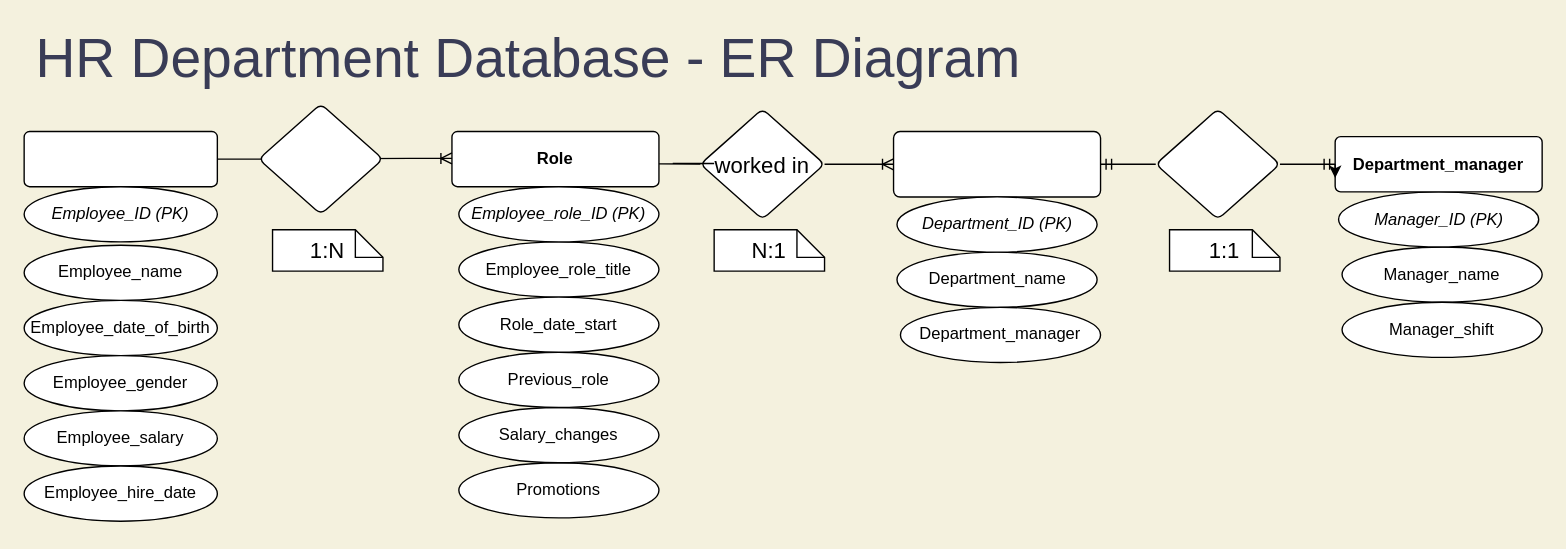
Image size: 1566x549. Some labels were removed from this diagram. The shapes that lost their labels are listed below. From the top down, each one's centre as x and y in pixels, then its label:
At (x=120, y=158): "Employee".
At (x=320, y=158): "holds".
At (x=996, y=163): "Departments".
At (x=1217, y=163): "manages".
